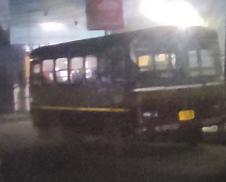Bus: (28, 21, 224, 154)
